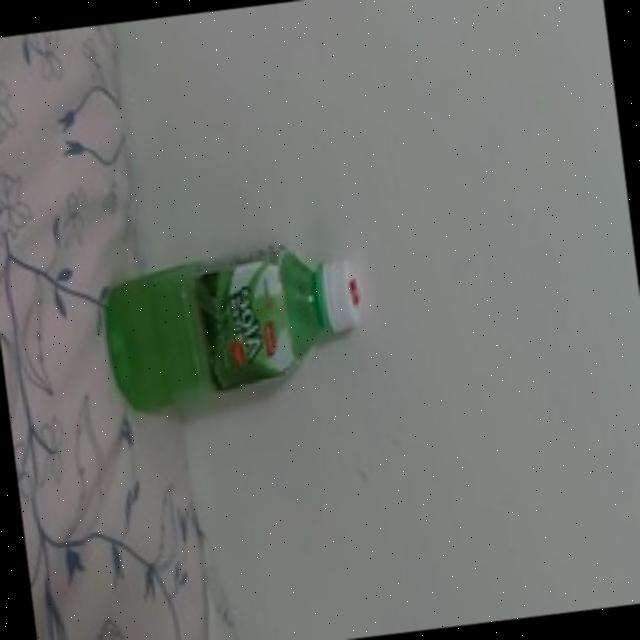bottle: (84, 230, 398, 436)
cap: (308, 253, 368, 335)
label: (196, 240, 306, 394)
